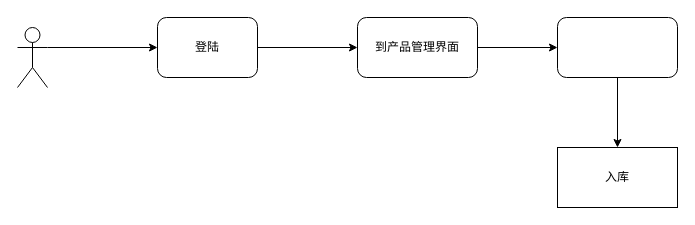
This 695x225 diagram has some shape labels left out. Each missing label, with the centre of its shape:
Actor: (32,57)
增删查改: (617,47)
